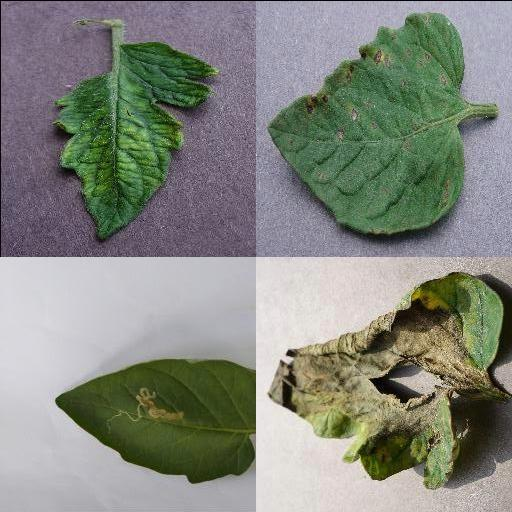Late Blight: (266, 270, 502, 488)
Leaf Miner: (55, 357, 256, 485)
Mosaic Virus: (49, 40, 223, 240)
Septoria: (268, 10, 468, 233)
